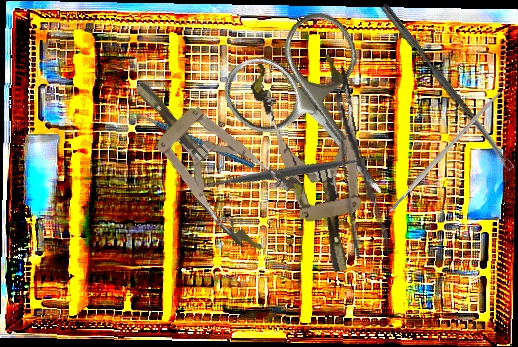Chopper: (117, 72, 256, 208)
Dressing Forceps: (332, 89, 391, 259)
Iris Scissors: (211, 1, 437, 236)
Scalpel Handle: (385, 88, 504, 215)
Spatula Surgical: (187, 73, 385, 271)
Speculum: (109, 53, 317, 262), (246, 46, 387, 282)
Surgical Spoon: (379, 2, 515, 173)
